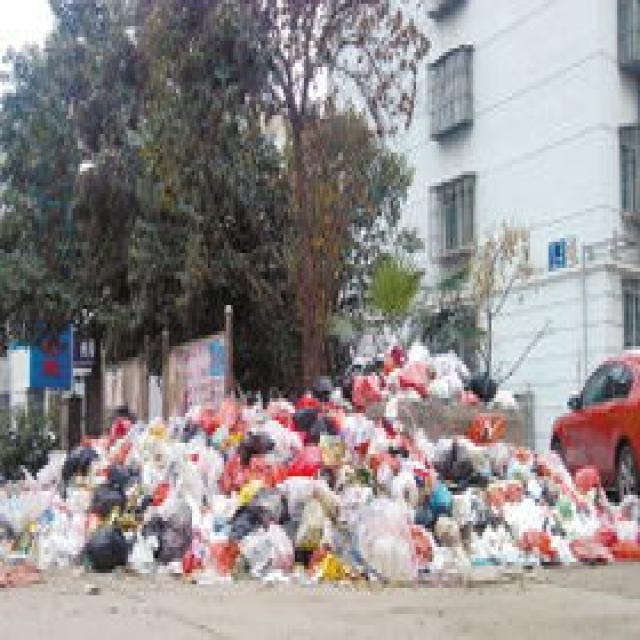garbage: (0, 335, 638, 584)
